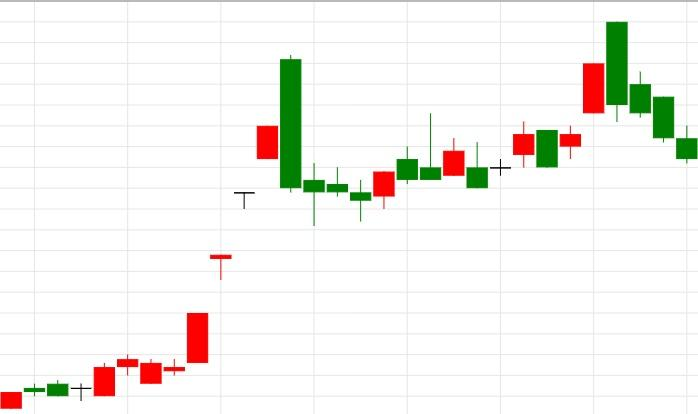bearish_engulfing_fall: (164, 55, 301, 376)
